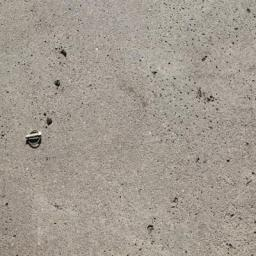FOD: (24, 129, 46, 150)
